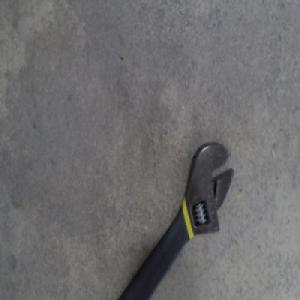AdjustableWrench: (115, 142, 235, 299)
